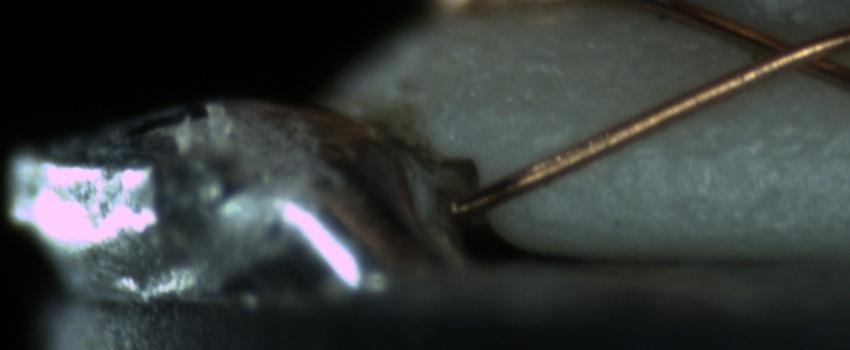CL: (735, 24, 843, 86)
DL: (618, 114, 846, 182)
